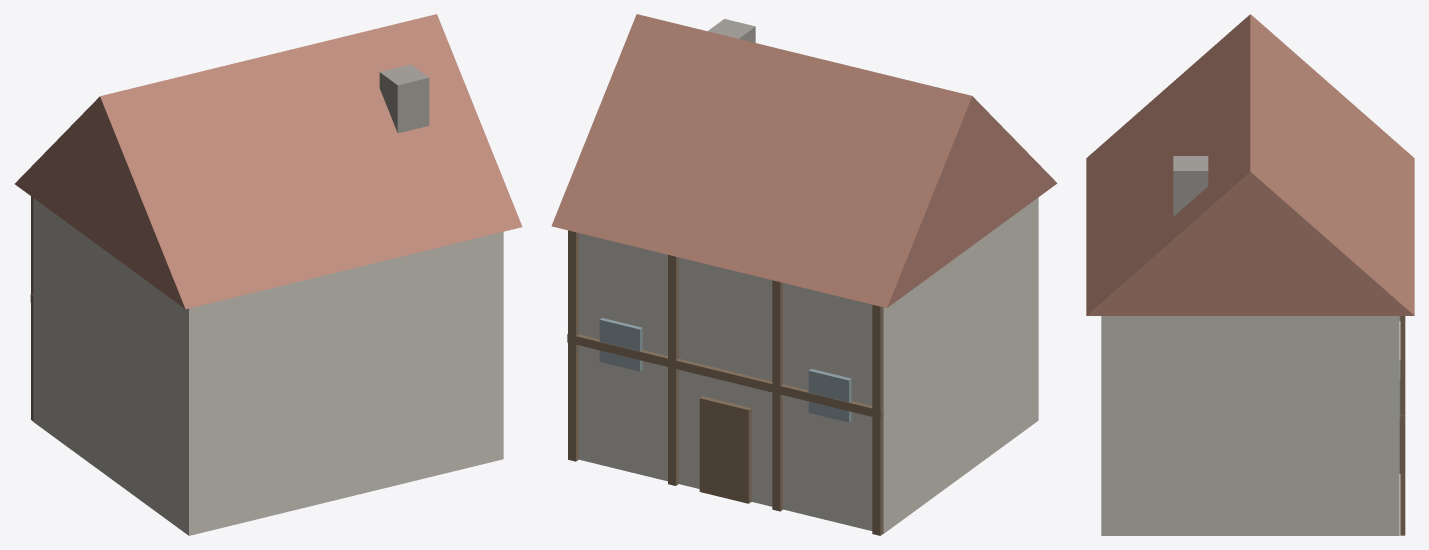
3 renders of one model, left to right at view 1: azimuth 30°, elevation 25°; view 2: azimuth 150°, elevation 25°; view 3: azimuth 270°, elevation 25°, orthographic. The views are drawn at different scales.
Parts seen in each view (by area): view 1: architecture.house_timber; view 2: architecture.house_timber; view 3: architecture.house_timber.
Part boxes in pixels (<box>): architecture.house_timber: <box>15,14,522,535</box>; architecture.house_timber: <box>551,14,1057,535</box>; architecture.house_timber: <box>1086,14,1414,535</box>.
Size of the model in its own units: 7.5 by 8.2 by 6.6.
